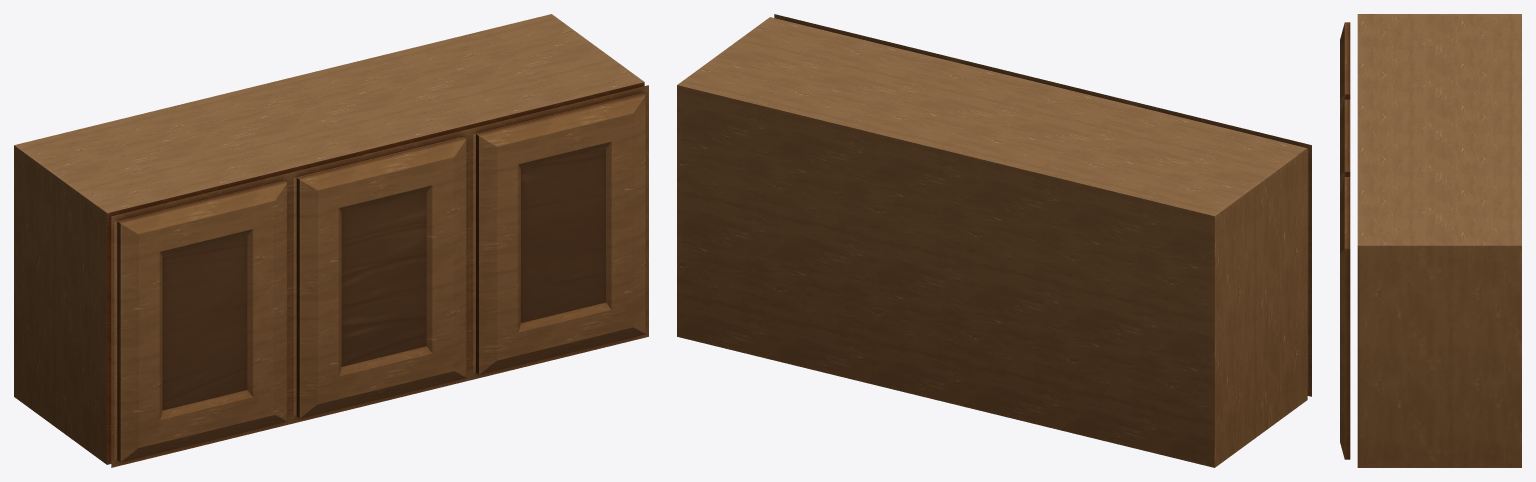
The model's file is AslanHouse_Kitchen2.fbx.
3 renders of one model, left to right at view 1: azimuth 30°, elevation 25°; view 2: azimuth 150°, elevation 25°; view 3: azimuth 270°, elevation 25°, orthographic. The views are drawn at different scales.
Visible parts, largest first — view 1: Cube.020; view 2: Cube.020; view 3: Cube.020.
Boxes of the visible parts, x1,y1,x2,y2 form: Cube.020: [14, 14, 648, 467]; Cube.020: [677, 14, 1311, 467]; Cube.020: [1340, 14, 1521, 467].
Bounding box in the file's own units: 258 × 115 × 85.49.
1 material, 1 textured.
